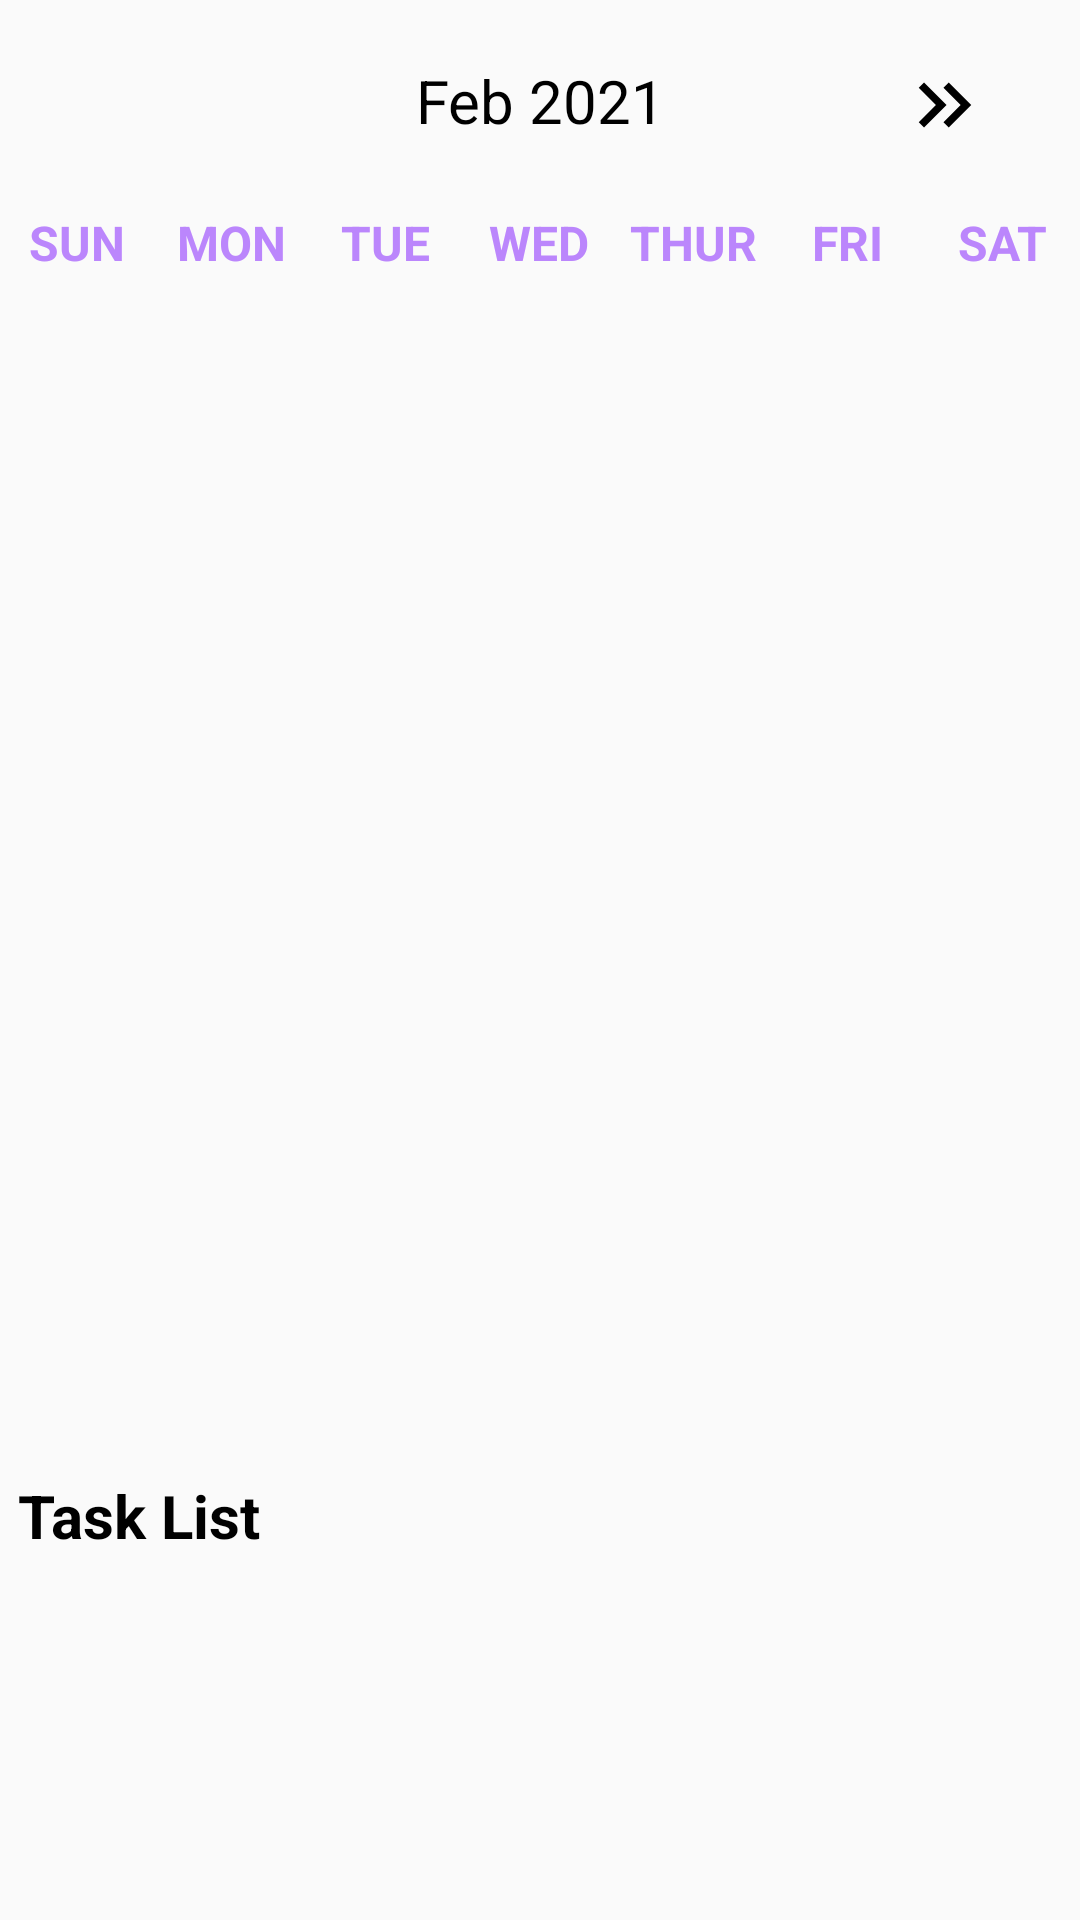

Point at icon controls on the screen. Image size 1080*1920, points as [x,y].
arrow right: [945,105]
